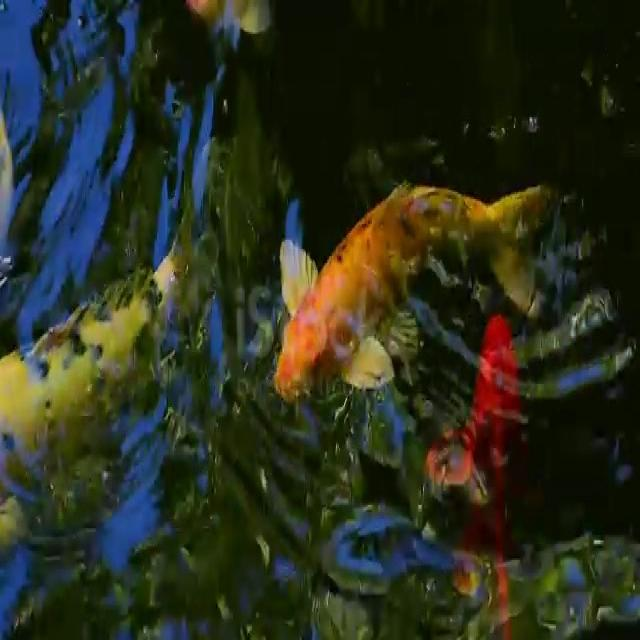fish: (0, 217, 195, 640), (259, 163, 575, 392), (443, 294, 550, 640)
